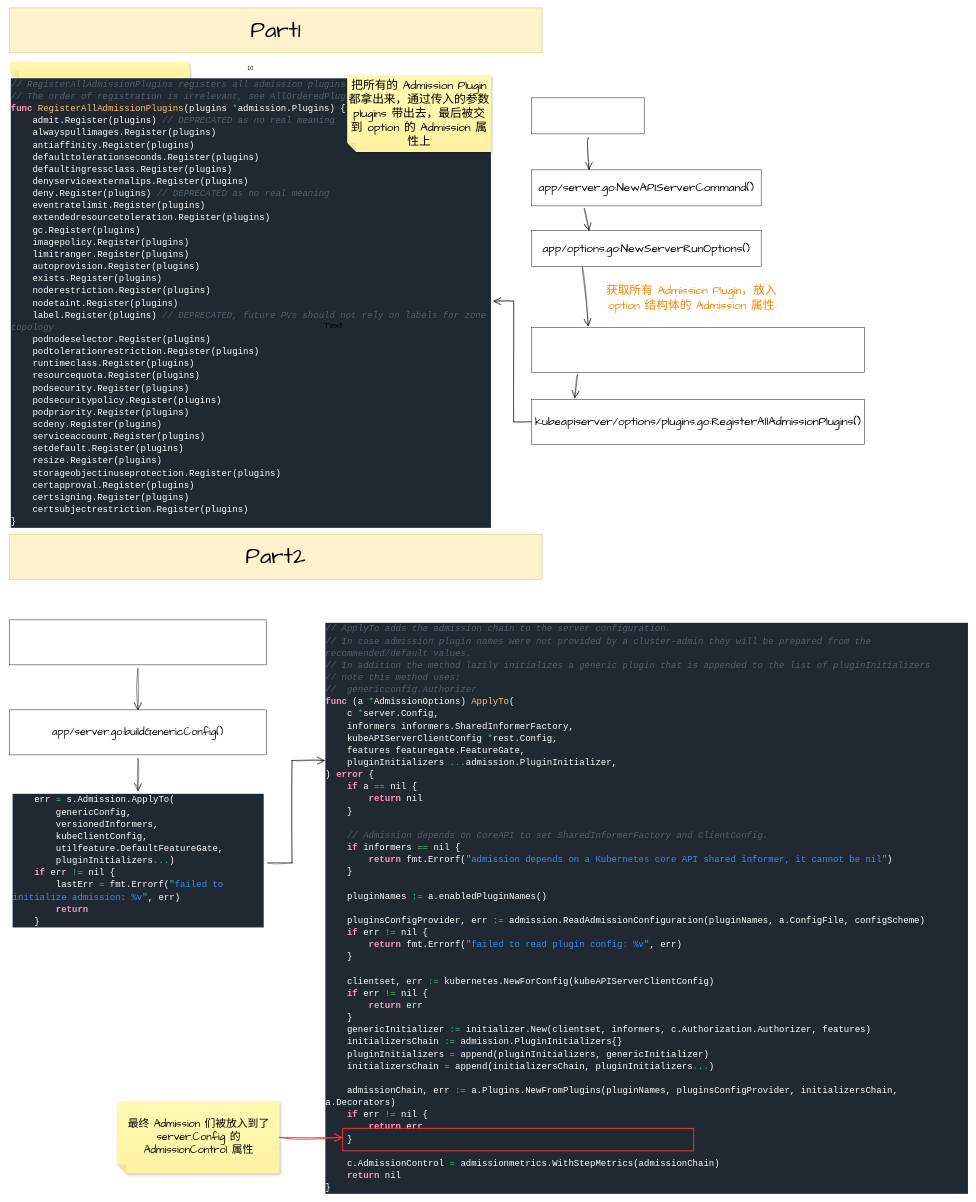
The diagram is 976 pixels wide and 1202 high, and some of its shapes have lost their labels. The centre of each missing label's shape, as x and y in pixels:
"apiserver.go:main()" goes at [587,115].
"app/server.go:CreateKubeAPIServerConfig()" goes at [137,642].
"kubeapiserver/options/admission.go:NewAdmissionOptions()" goes at [698,349].
"pkg/kubeapiserver/options/plugins.go" goes at [100,71].
